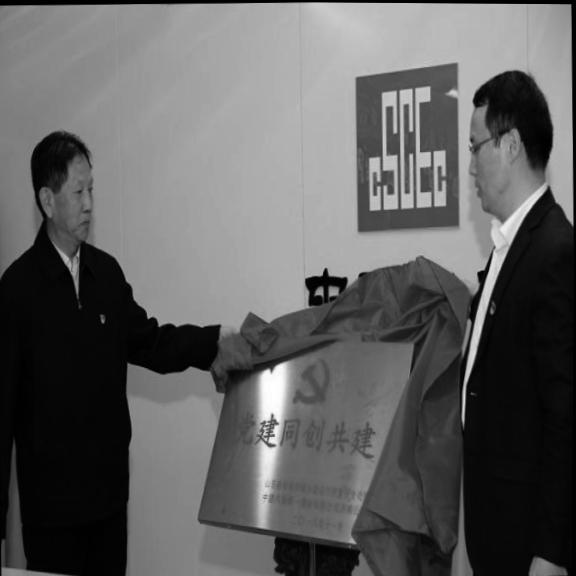no_safety_vest: (0, 239, 145, 565), (452, 201, 575, 576)
